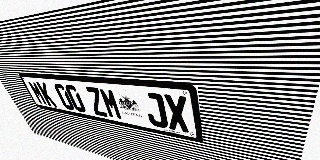0: (64, 84, 87, 113), (53, 83, 75, 111)
J: (142, 92, 169, 129)
K: (36, 82, 58, 107)
M: (98, 88, 123, 120), (27, 81, 48, 106)
X: (163, 94, 190, 133)
Z: (84, 86, 109, 117)
